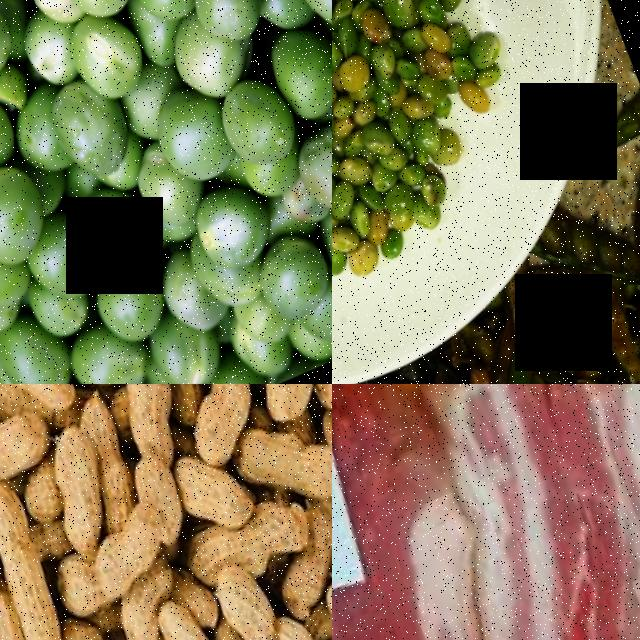peanuts: (0, 471, 102, 640), (31, 423, 132, 546), (54, 532, 154, 625), (208, 552, 307, 640), (110, 384, 205, 474), (176, 456, 269, 546), (261, 416, 332, 516), (180, 384, 260, 465), (0, 403, 63, 487), (162, 595, 244, 640), (0, 589, 72, 640), (0, 463, 24, 602), (257, 384, 330, 425), (0, 384, 67, 414)
peas: (0, 0, 332, 384), (332, 0, 531, 324)
pork belly: (367, 384, 640, 640), (332, 384, 582, 640), (515, 384, 640, 640)
